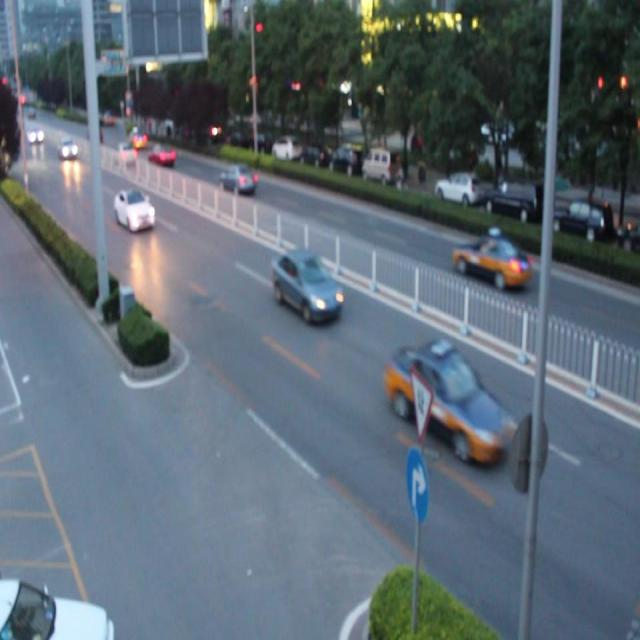car: (386, 340, 511, 464), (1, 576, 113, 640), (270, 252, 341, 322), (452, 234, 530, 287), (112, 188, 155, 230), (220, 166, 255, 195), (148, 145, 174, 166)
